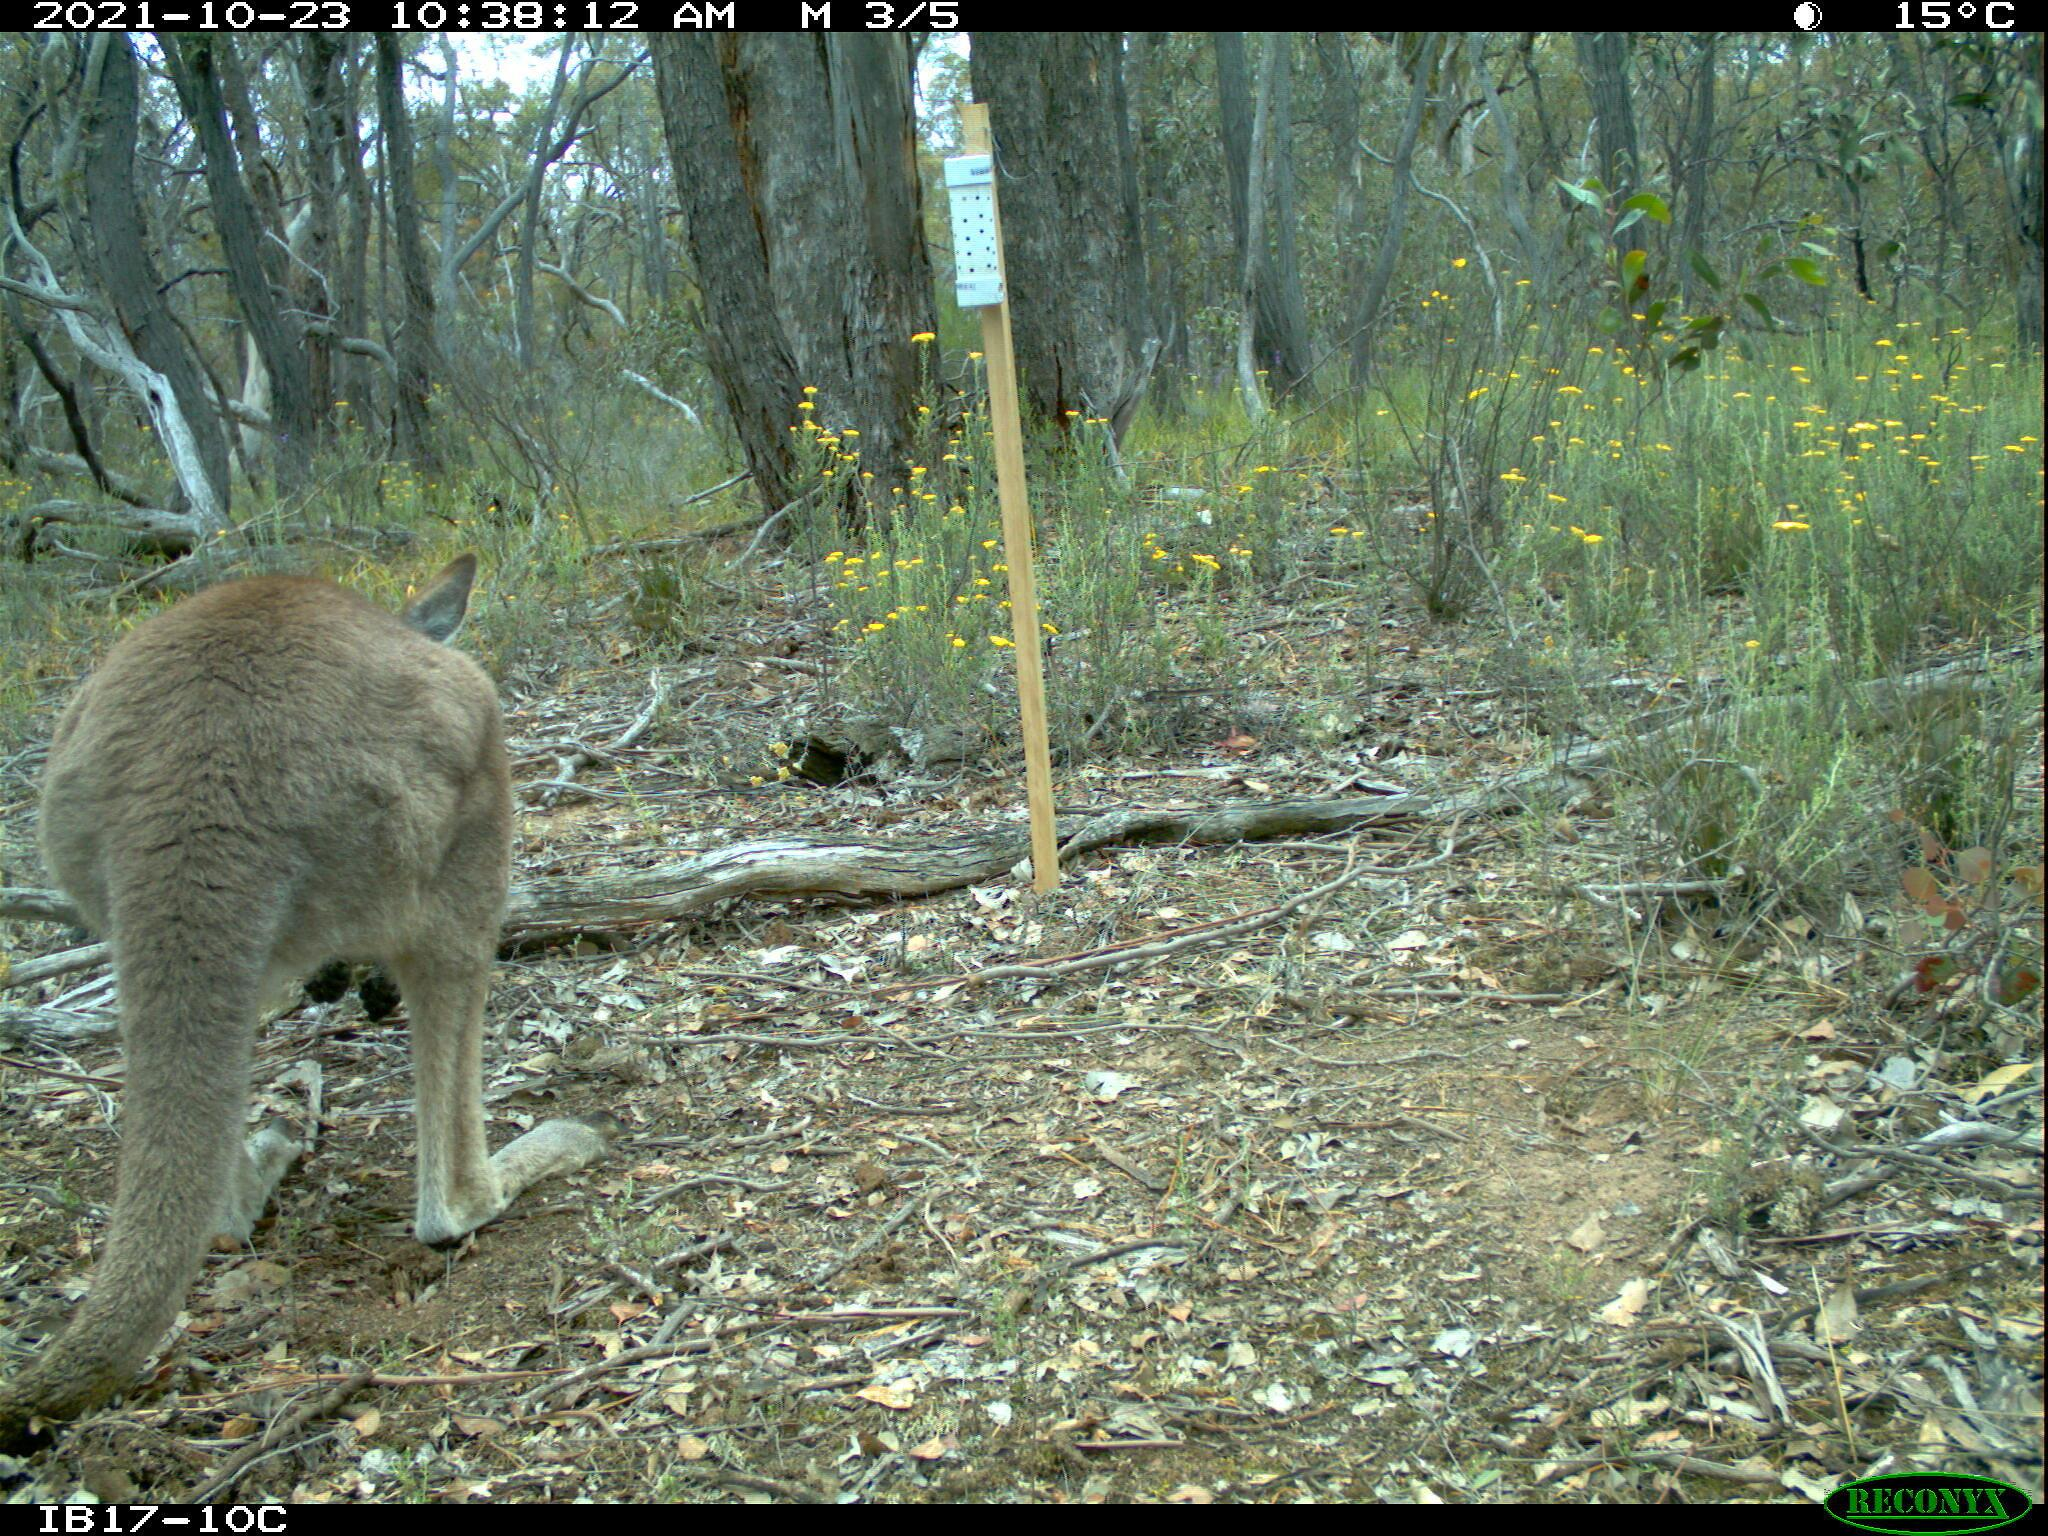Eastern grey kangaroo: (0, 552, 608, 1455)
